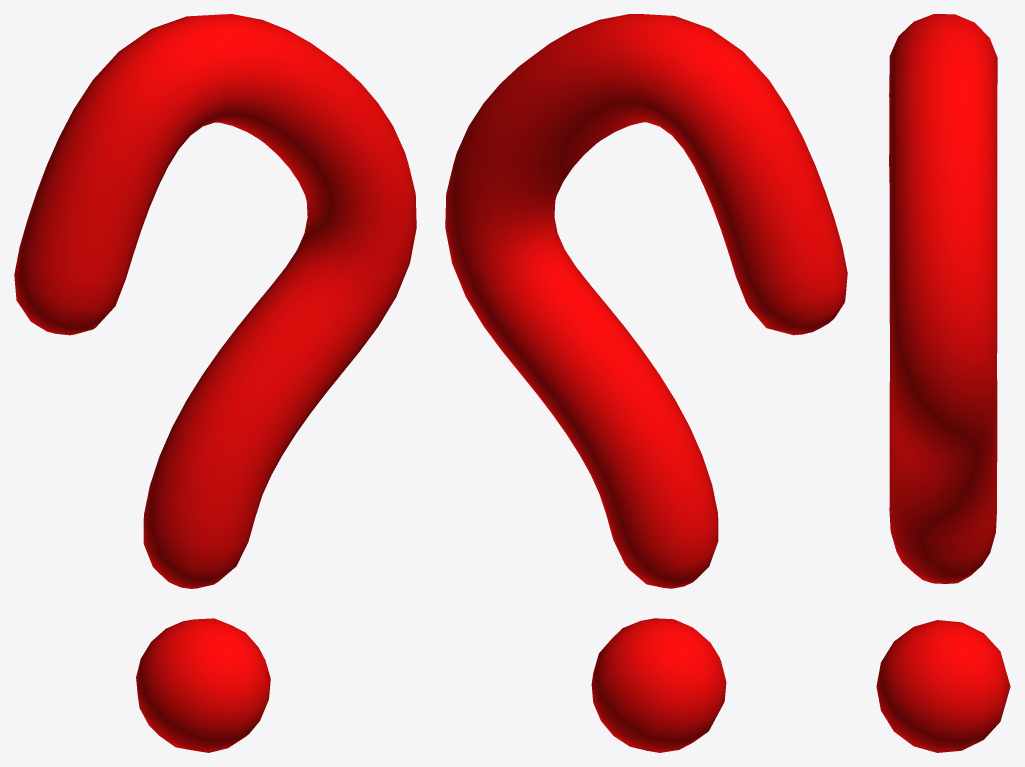
File: qqq.glb
3 views of the same model, side by side, from view 1: azimuth 30°, elevation 25°; view 2: azimuth 150°, elevation 25°; view 3: azimuth 270°, elevation 25° (orthographic).
Parts seen in each view (by area): view 1: Line001; view 2: Line001; view 3: Line001.
Boxes of the visible parts, left/top/right/bottom form: Line001: left=14, top=14, right=416, bottom=752; Line001: left=445, top=14, right=847, bottom=752; Line001: left=876, top=14, right=1010, bottom=752.
Bounding box in the file's own units: 0.0521 × 0.0936 × 0.0159.
